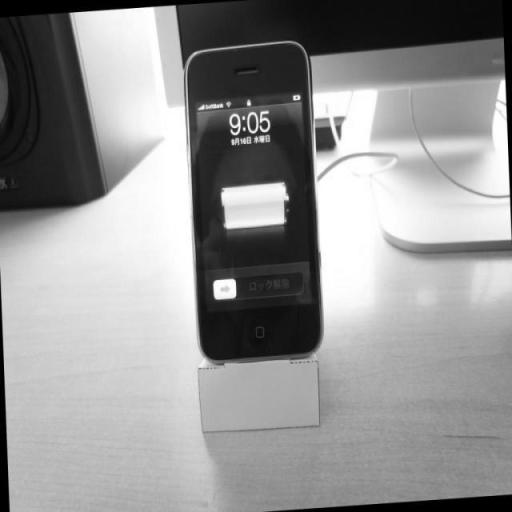phone: (185, 41, 322, 363)
